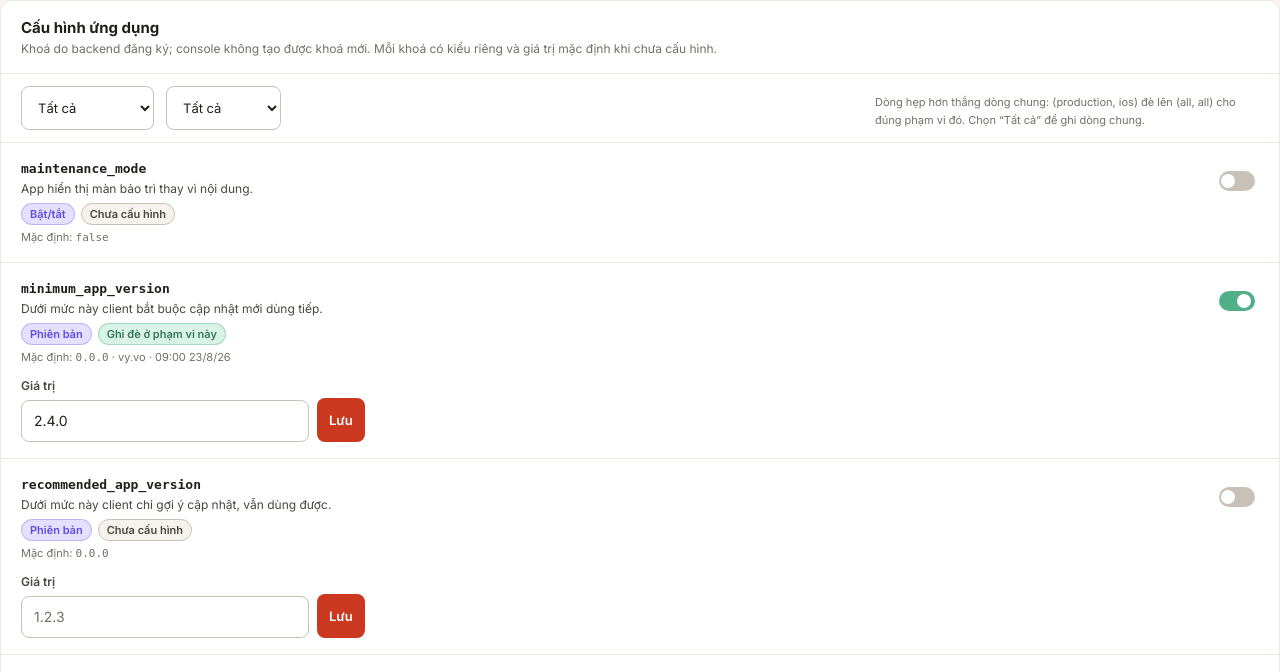
Test: FlagsPanel (CMS-030) › refuses a malformed version before it reaches the server
The image size is (1280, 672).
Check: the text "minimum_app_version" is shown, box [21, 281, 170, 296]
Replace the text in the field labelled "Giá trị" below "09:00 23/8/26" with "2.6". click: (165, 421)
box: [21, 400, 309, 442]
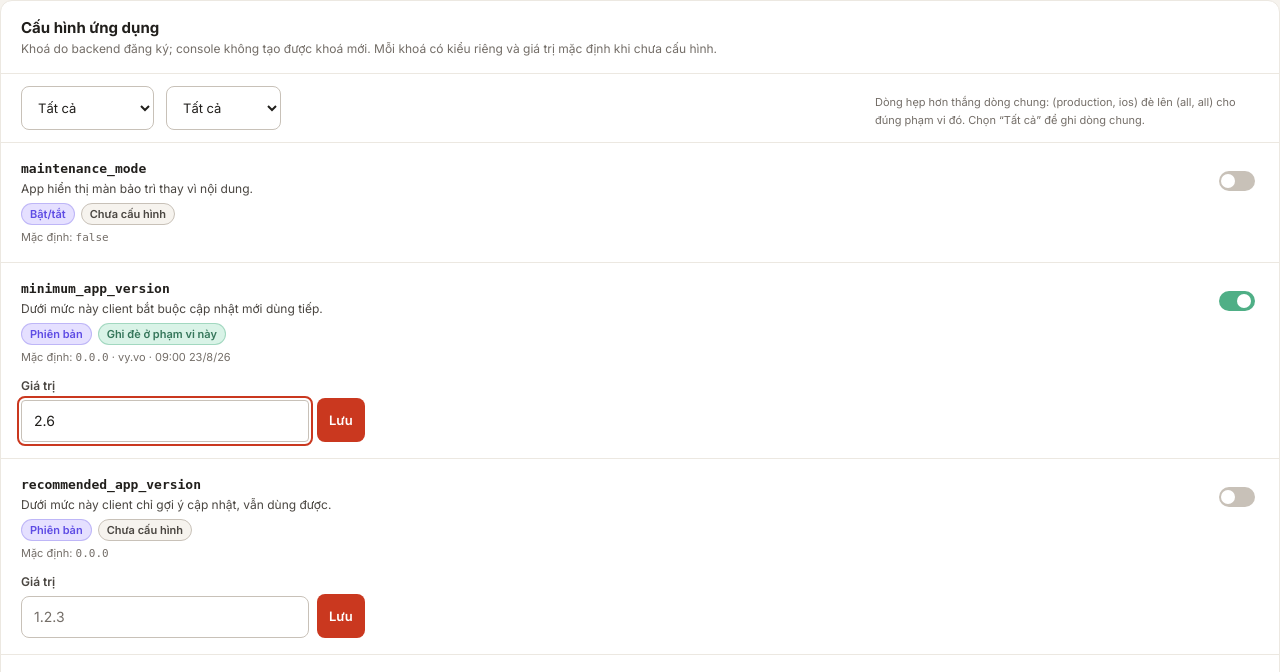
Click the button "Lưu" below "09:00 23/8/26". click: (341, 420)
box: [317, 398, 365, 442]
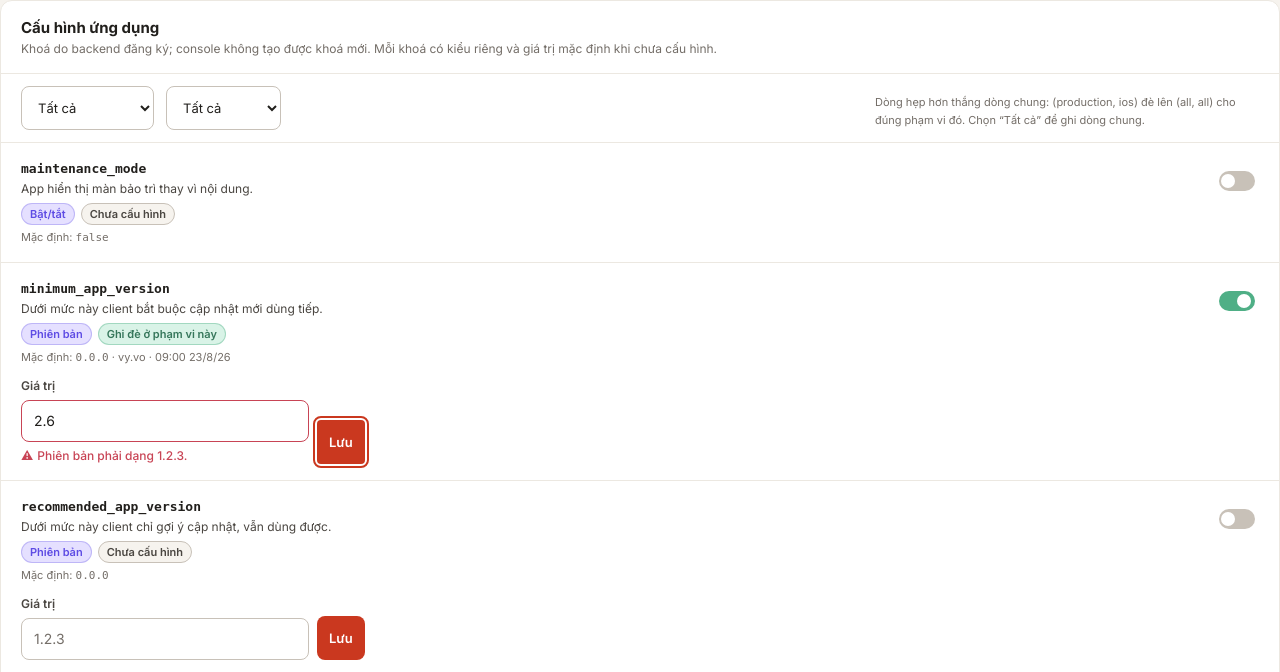
Check: the text "Phiên bản phải dạng 1.2.3." is shown, box [37, 448, 187, 463]
